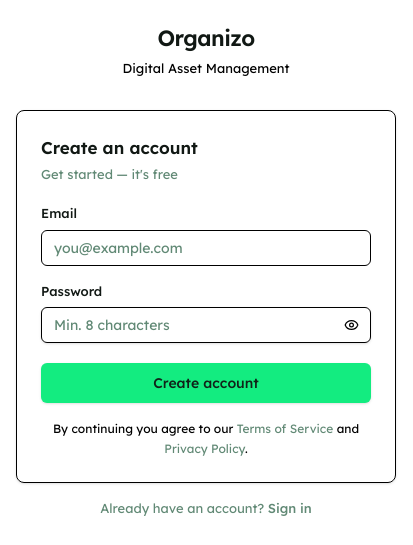
it: SignUpPage › validation › shows 'Password is required' when submitted with no password
In the field labelled "Email": coordinates (206, 248) [41, 230, 371, 266], type "user@example.com"
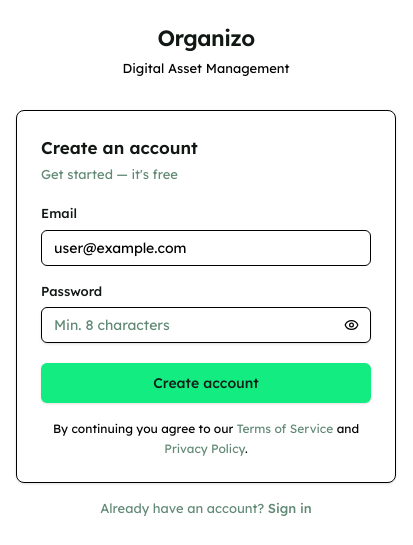
Click the button "Create account": coordinates (206, 383) [41, 363, 371, 403]
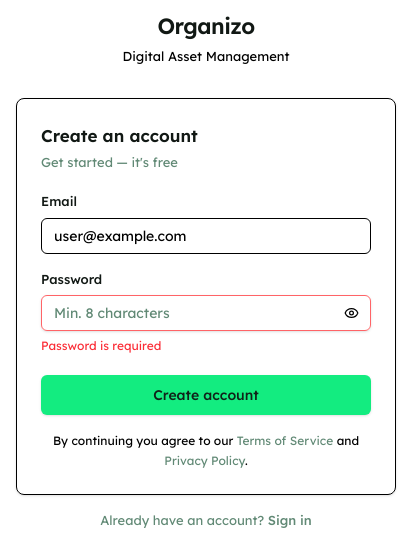
Expected: the text "Password is required" is shown, [41, 338, 161, 353]
